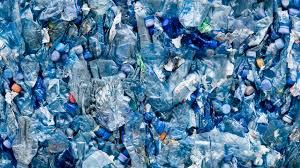Plastic bottle: (1, 2, 300, 168)
